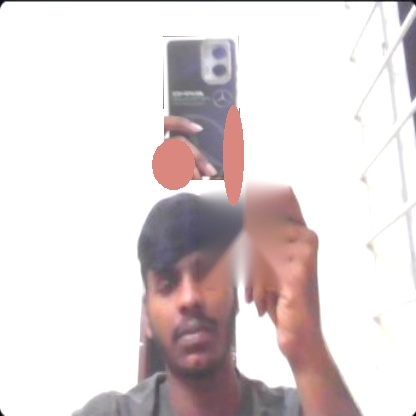cell_phone: (163, 36, 240, 180)
